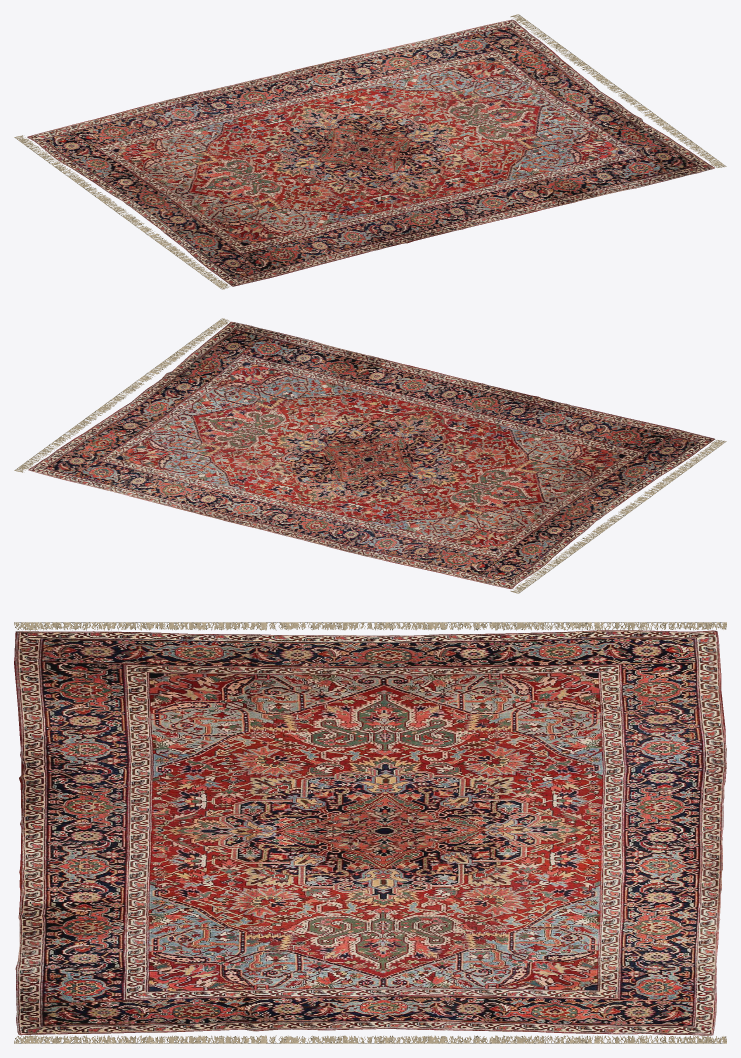
Rendered from rug.glb.
The picture shows the model from 3 angles, top to bottom: view 1: azimuth 30°, elevation 25°; view 2: azimuth 150°, elevation 25°; view 3: azimuth 270°, elevation 25°; orthographic projection. The views are drawn at different scales.
Visible parts, largest first — view 1: Object_4; view 2: Object_4; view 3: Object_4.
Boxes of the visible parts, left/top/right/bottom form: Object_4: left=14, top=14, right=726, bottom=289; Object_4: left=14, top=318, right=726, bottom=593; Object_4: left=14, top=622, right=726, bottom=1043.
Bounding box in the file's own units: 4.01 × 0 × 2.87.
Materials: 2 (2 with a texture image).
